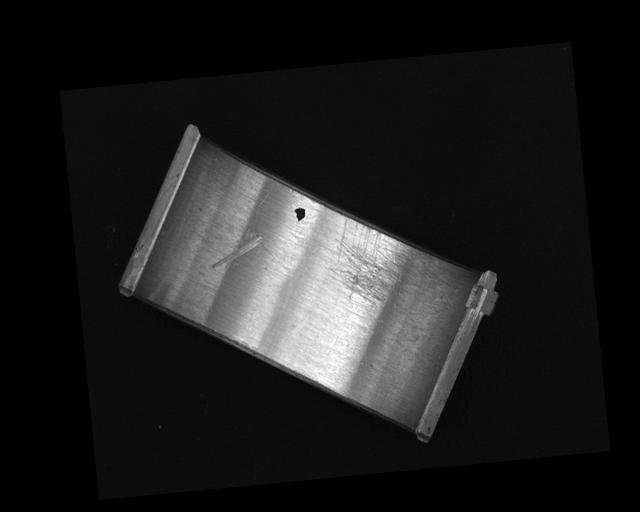blot: (294, 206, 306, 223)
nick: (207, 227, 265, 269), (251, 190, 278, 258)
scratch: (322, 207, 433, 310)
